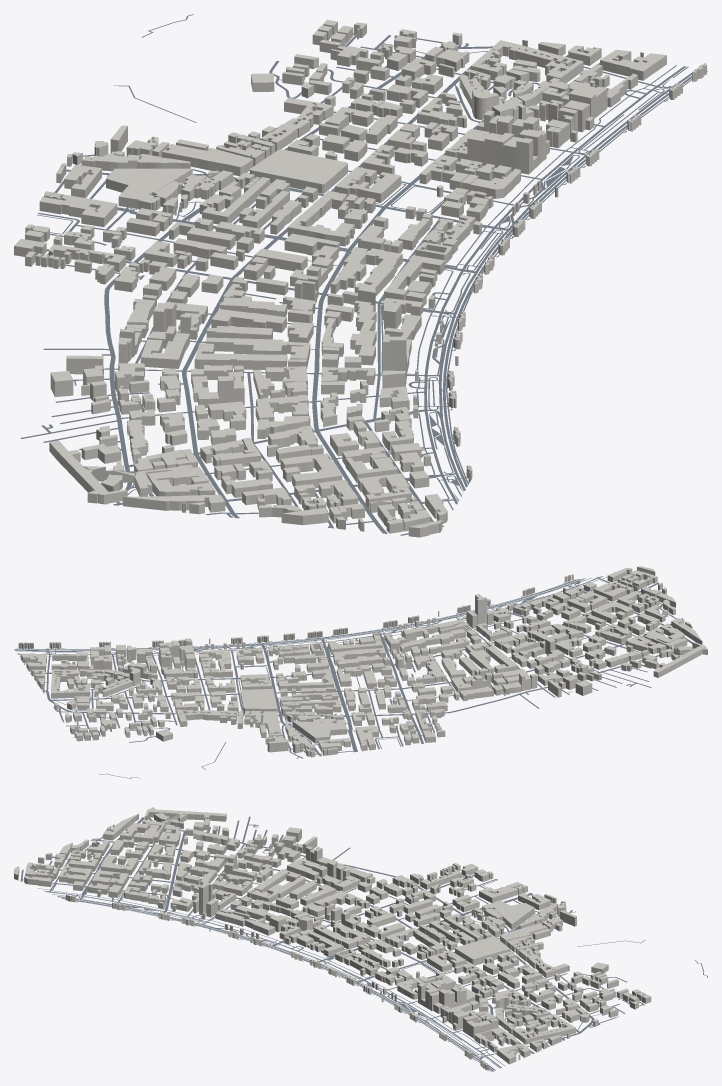
Rendered from R3_Orla_Piloto_Derivado.fbx.
3 renders of one model, top to bottom at view 1: azimuth 30°, elevation 25°; view 2: azimuth 150°, elevation 25°; view 3: azimuth 270°, elevation 25°, orthographic. The views are drawn at different scales.
Visible parts, largest first — view 1: GIS_DERIVED_2_OSM_BUILDINGS_REMOVED_NO_ORIGINAL_CHANGED; view 2: GIS_DERIVED_2_OSM_BUILDINGS_REMOVED_NO_ORIGINAL_CHANGED; view 3: GIS_DERIVED_2_OSM_BUILDINGS_REMOVED_NO_ORIGINAL_CHANGED.
Part boxes in pixels (x1=…): GIS_DERIVED_2_OSM_BUILDINGS_REMOVED_NO_ORIGINAL_CHANGED: x1=14, y1=14, x2=707, y2=537; GIS_DERIVED_2_OSM_BUILDINGS_REMOVED_NO_ORIGINAL_CHANGED: x1=14, y1=566, x2=707, y2=778; GIS_DERIVED_2_OSM_BUILDINGS_REMOVED_NO_ORIGINAL_CHANGED: x1=14, y1=807, x2=707, y2=1071.
Size of the model in its own units: 183285 by 9000 by 207121.
